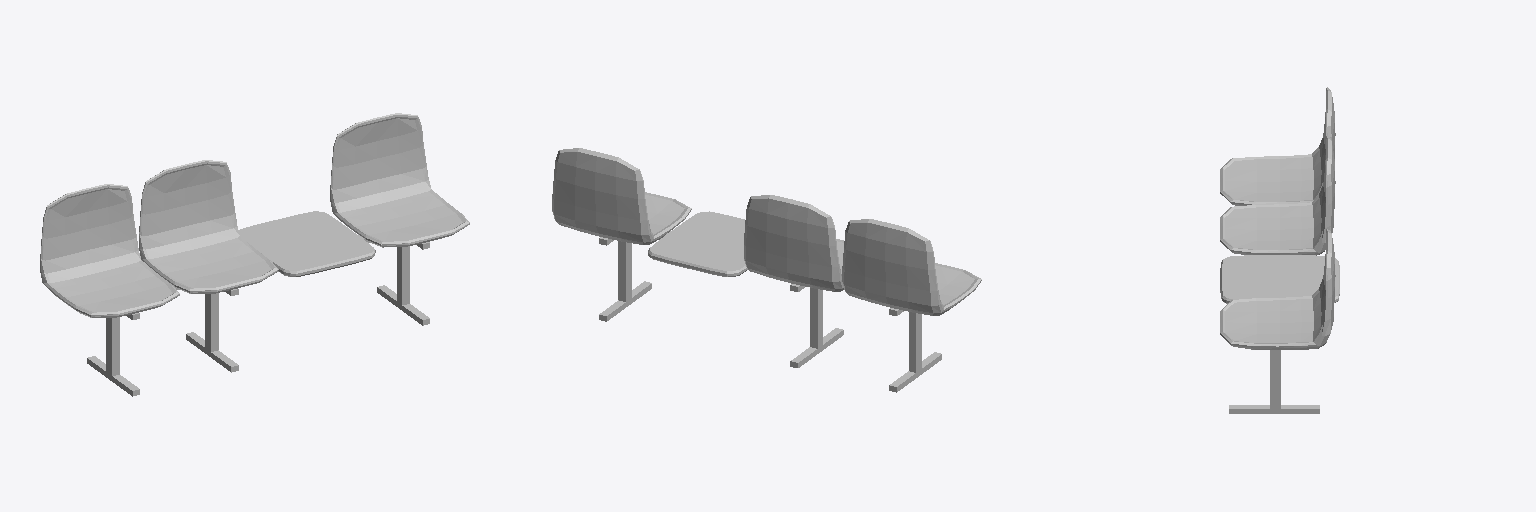
File: ghetto_chairs.obj
3 views of the same model, side by side, from view 1: azimuth 30°, elevation 25°; view 2: azimuth 150°, elevation 25°; view 3: azimuth 270°, elevation 25° (orthographic).
Visible parts, largest first — view 1: pCube13; view 2: pCube13; view 3: pCube13.
Part boxes in pixels (left/top/right/bottom): pCube13: left=40, top=113, right=469, bottom=396; pCube13: left=552, top=148, right=981, bottom=392; pCube13: left=1220, top=87, right=1339, bottom=413.
Bounding box in the file's own units: 205 × 86.74 × 55.15.